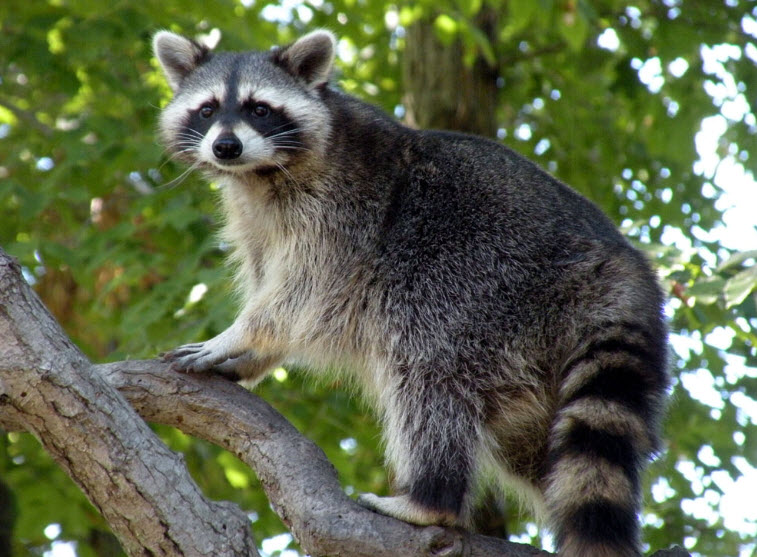raccoon: (133, 26, 695, 557)
